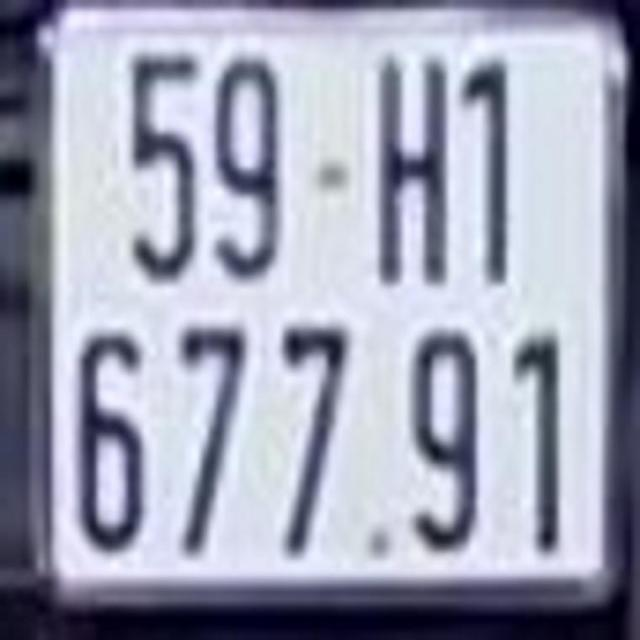1: (459, 53, 510, 284), (512, 330, 562, 552)
5: (132, 53, 200, 284)
6: (77, 332, 143, 550)
7: (282, 325, 345, 562), (179, 324, 245, 548)
9: (411, 324, 482, 550), (214, 57, 285, 280)
H: (378, 55, 450, 284)
